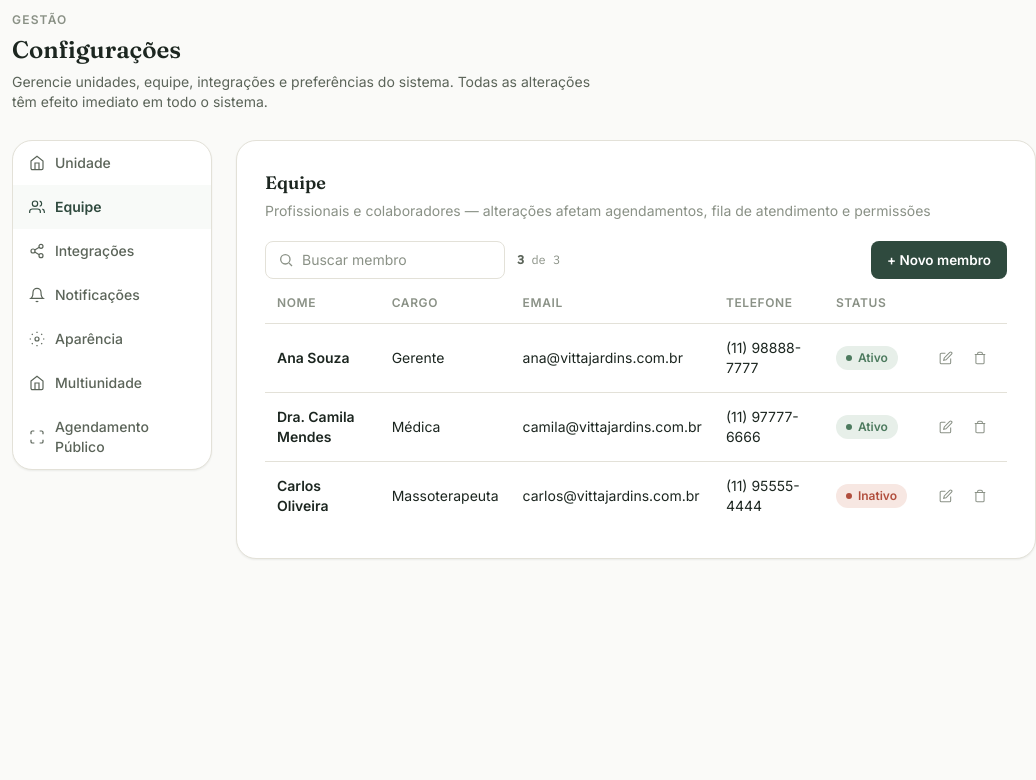
Test: Configuracoes › Aba Equipe › deve filtrar membros pelo campo de busca
The image size is (1036, 780).
In the field with placeholder "Buscar membro": (397, 260) top-left (302, 250), bottom-right (492, 270), type "Camila"
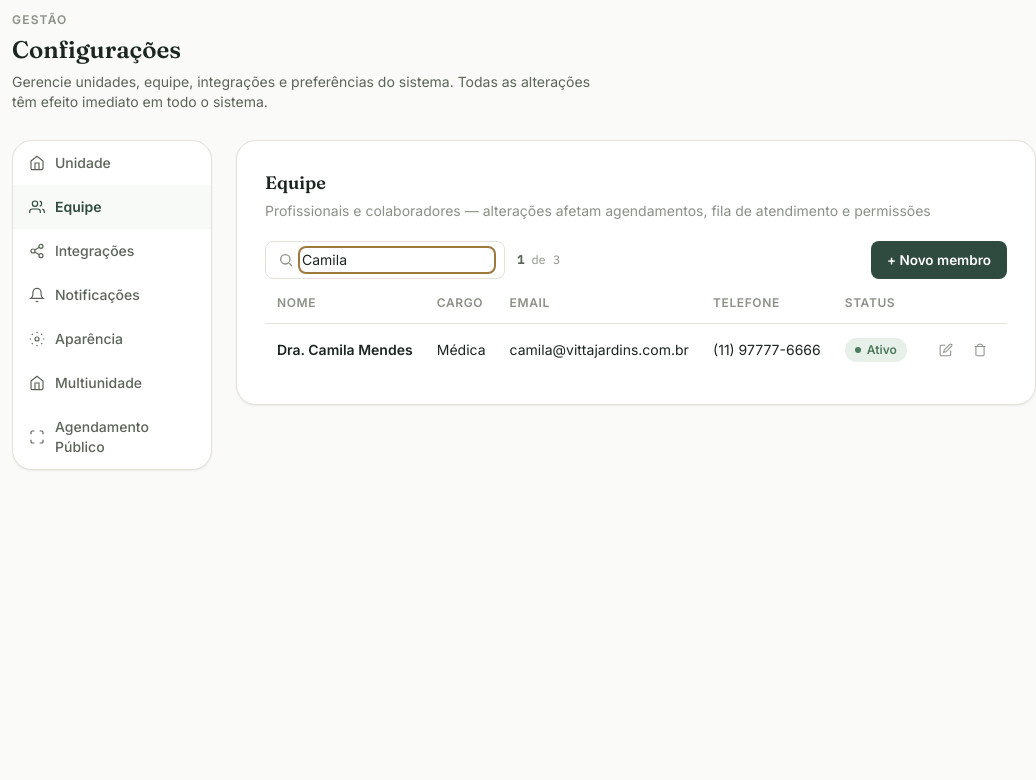
Expected: the text "Dra. Camila Mendes" is shown, top-left (265, 324), bottom-right (425, 376)
Now the text "Carlos Oliveira" is gone
